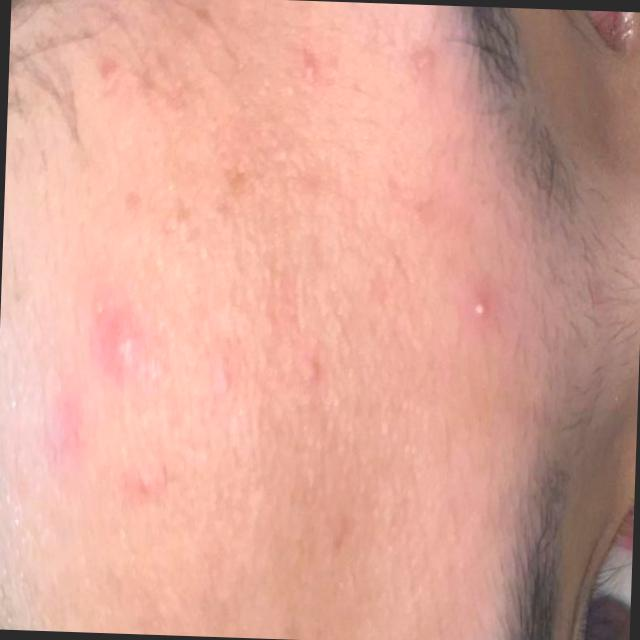papule: (27, 218, 194, 558)
pustule: (276, 41, 325, 90), (458, 285, 502, 325)
